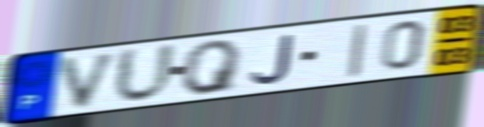0: (379, 18, 429, 73)
I: (345, 21, 370, 80)
J: (248, 32, 295, 86)
Q: (181, 37, 245, 97)
U: (111, 41, 179, 106)
V: (58, 49, 123, 111)
